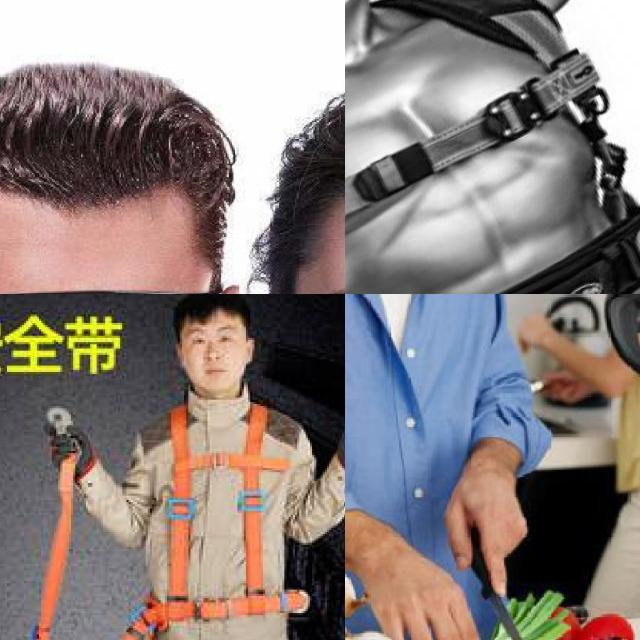Harness: (345, 0, 617, 227), (128, 386, 345, 640)
hand_noglove: (434, 469, 540, 594), (350, 545, 484, 640), (540, 360, 598, 409), (510, 306, 555, 352)
head_nohelmet: (0, 51, 219, 245), (267, 63, 345, 248)
person: (345, 294, 547, 640), (567, 294, 640, 624)
